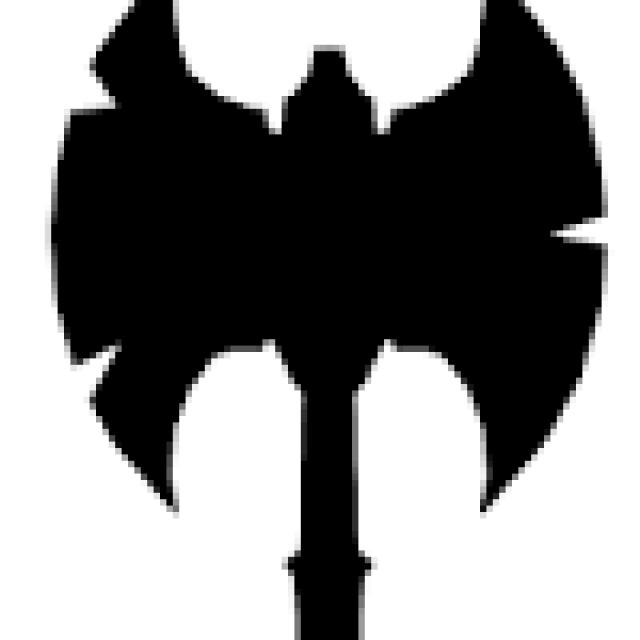Gun: (51, 3, 610, 640)
